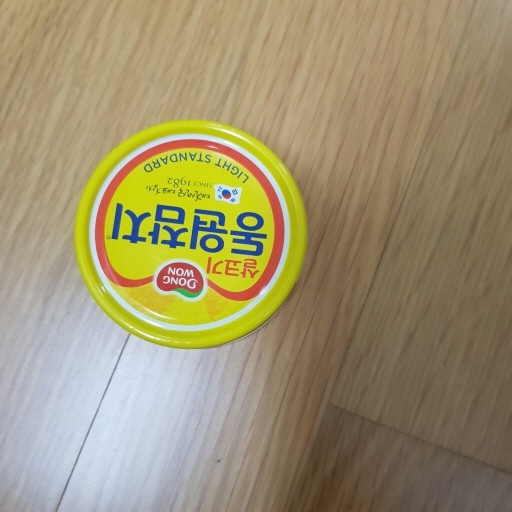Metal_1: (74, 117, 307, 350)
